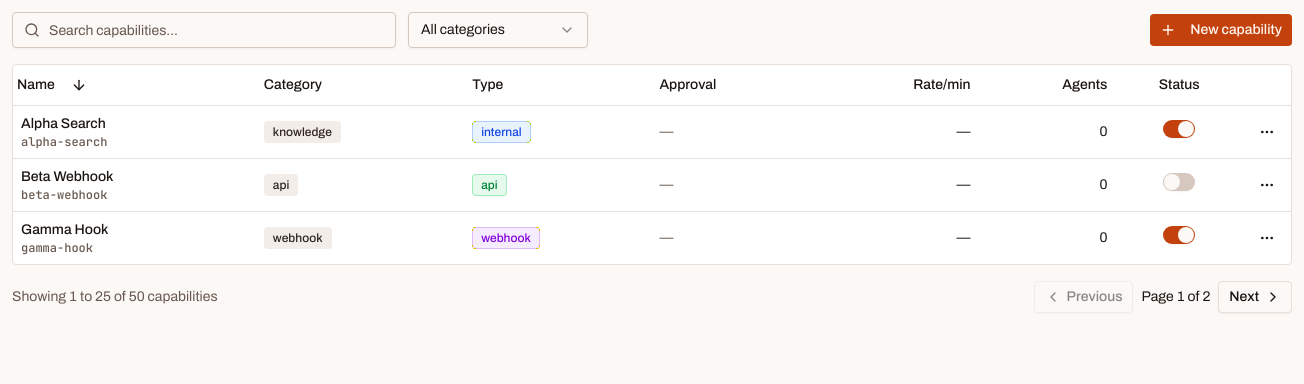
CapabilitiesTable › list fetch error › renders error banner when capabilities list fetch fails with a non-ok response
This screenshot has width=1304, height=384.
# Click Next to trigger fetchCapabilities which will fail
Step 1. Click the button "Next" → [1255, 296], box [1218, 280, 1292, 312]
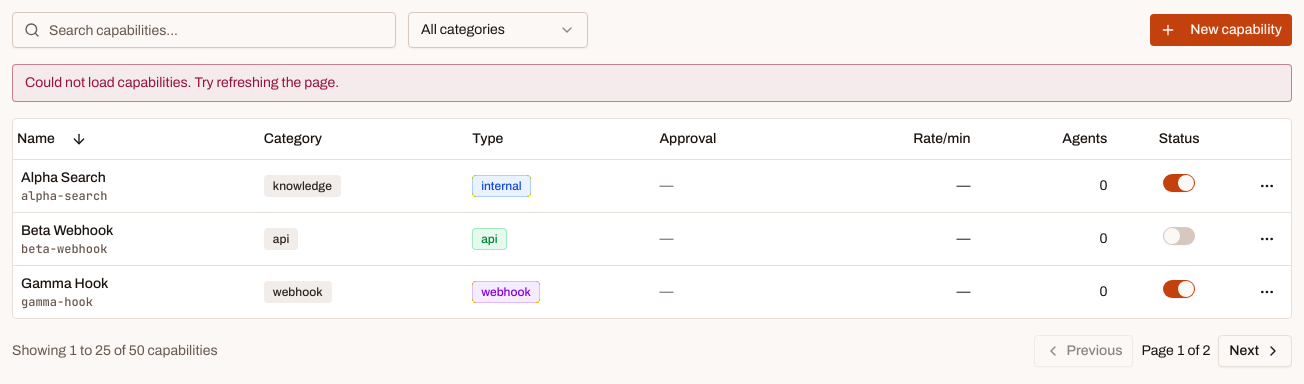
Now the text "Could not load capabilities. Try refreshing the page." is shown, box [12, 64, 1292, 102]
